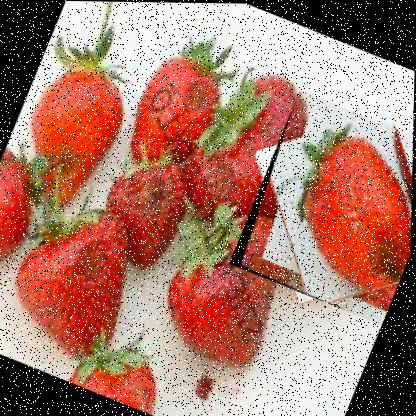strawberry_rotten: (226, 87, 414, 326)
